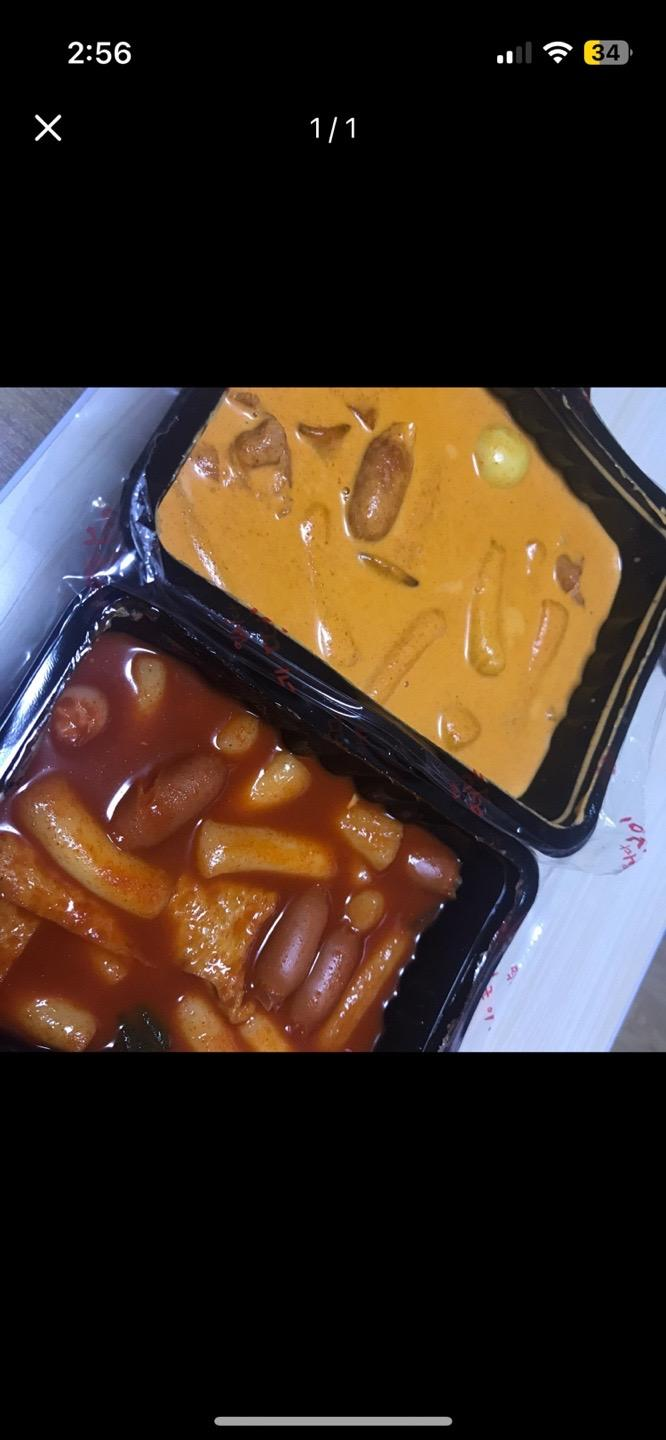Lunch Box: (0, 578, 538, 1053), (126, 386, 665, 853)
